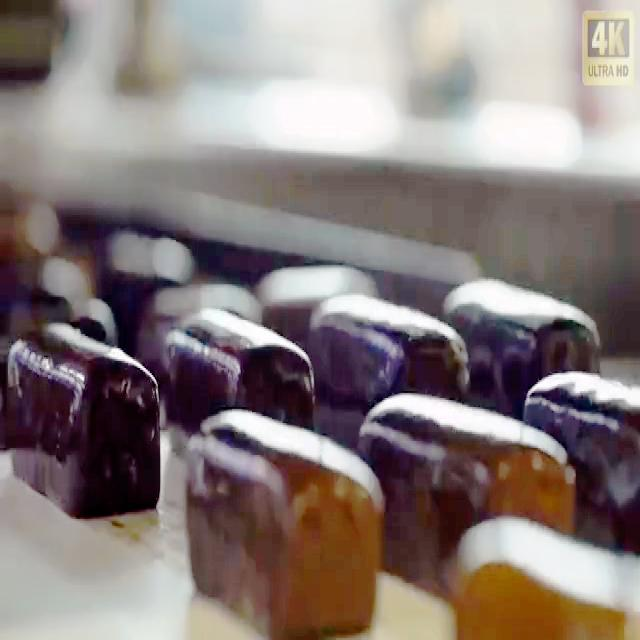Choco: (357, 388, 577, 602), (182, 403, 384, 633), (5, 313, 162, 519), (451, 490, 639, 640), (445, 270, 623, 404), (522, 356, 640, 542), (162, 300, 316, 430), (308, 286, 470, 404)
